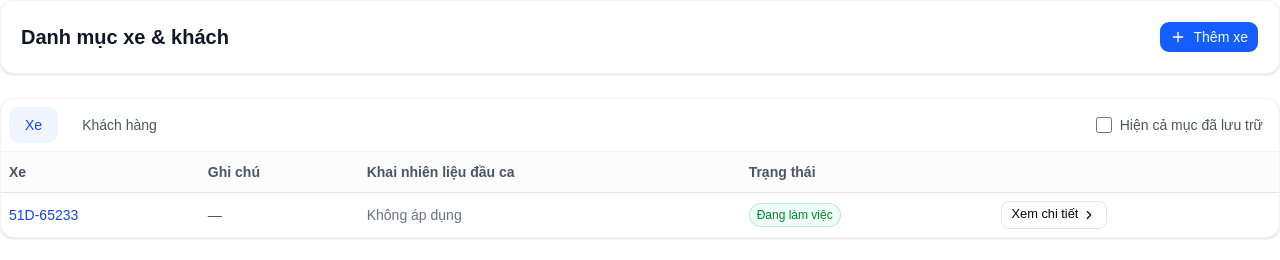
Test case: TripMasterDataPage › the two catalogues › switches to the customers without re-reading the vehicles
Expected: the text "51D-65233" is shown, [1, 192, 200, 236]
Click the button "Khách hàng": (119, 125) [66, 107, 173, 143]
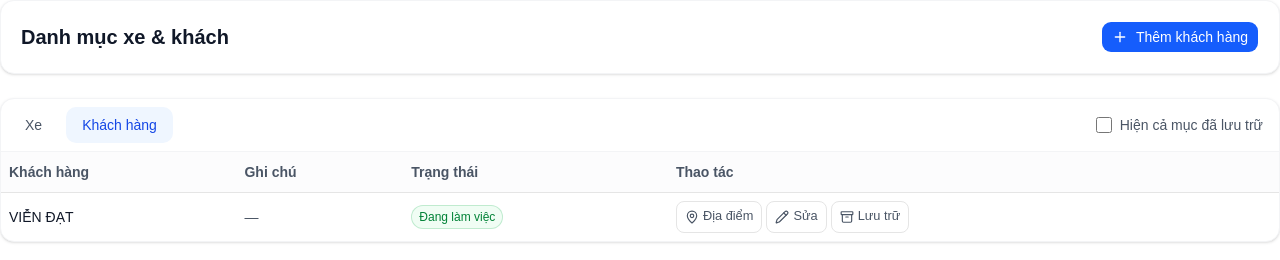
Expected: the text "VIỄN ĐẠT" is shown, [1, 192, 236, 240]
